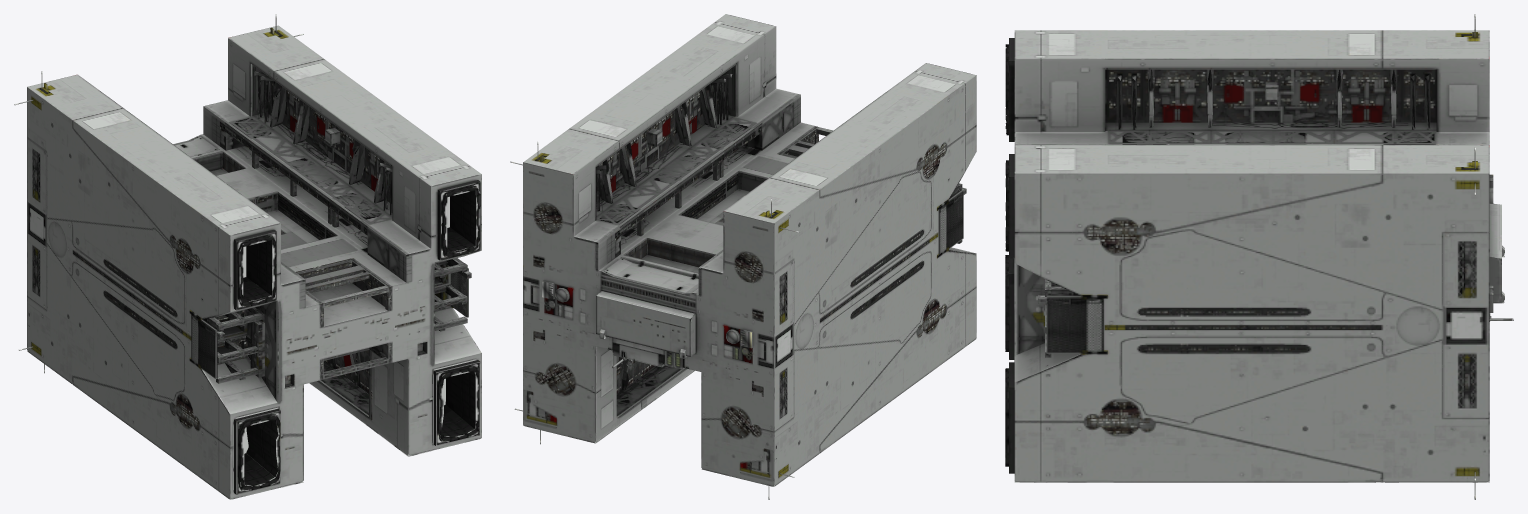
The model's file is tgef_01_construction.obj.
3 views of the same model, side by side, from view 1: azimuth 30°, elevation 25°; view 2: azimuth 150°, elevation 25°; view 3: azimuth 270°, elevation 25° (orthographic). The views are drawn at different scales.
Visible parts, largest first — view 1: Cube.006-000; view 2: Cube.006-000; view 3: Cube.006-000.
Part boxes in pixels (bbox=[...]): Cube.006-000: bbox=[14, 14, 481, 499]; Cube.006-000: bbox=[510, 14, 976, 499]; Cube.006-000: bbox=[1005, 14, 1513, 499].
Bounding box in the file's own units: 0.000168 × 0.000168 × 0.000219.
